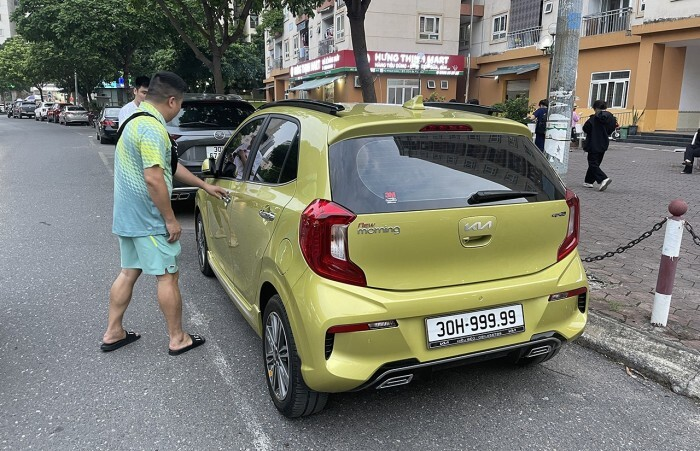number_plate: (422, 307, 528, 337)
